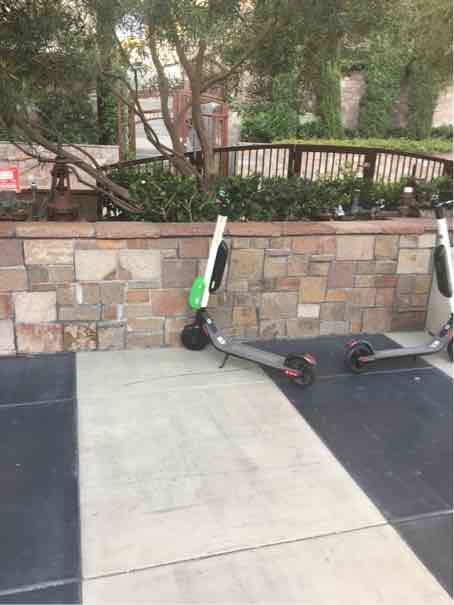scooter: (168, 172, 323, 389)
